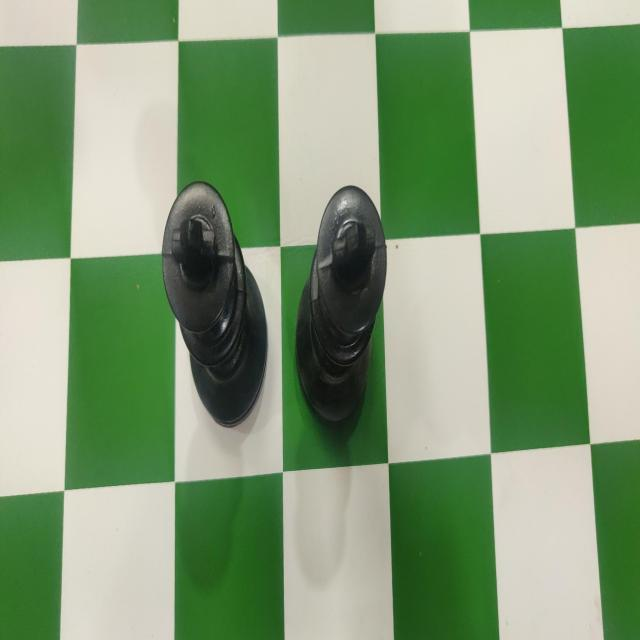black-king: (162, 179, 269, 428), (294, 183, 386, 424)
